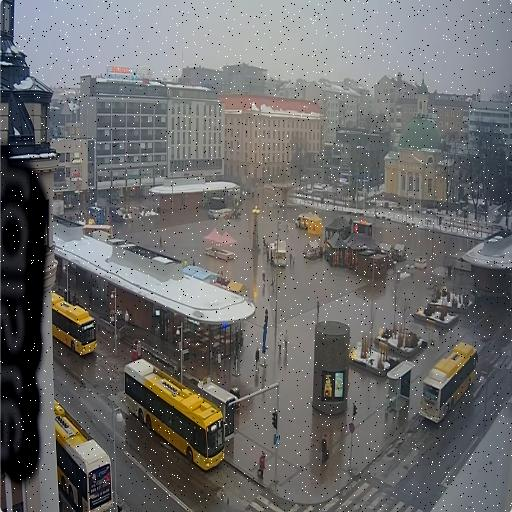Bus: (124, 358, 225, 470), (54, 399, 113, 511), (420, 342, 478, 423), (52, 293, 97, 355)
